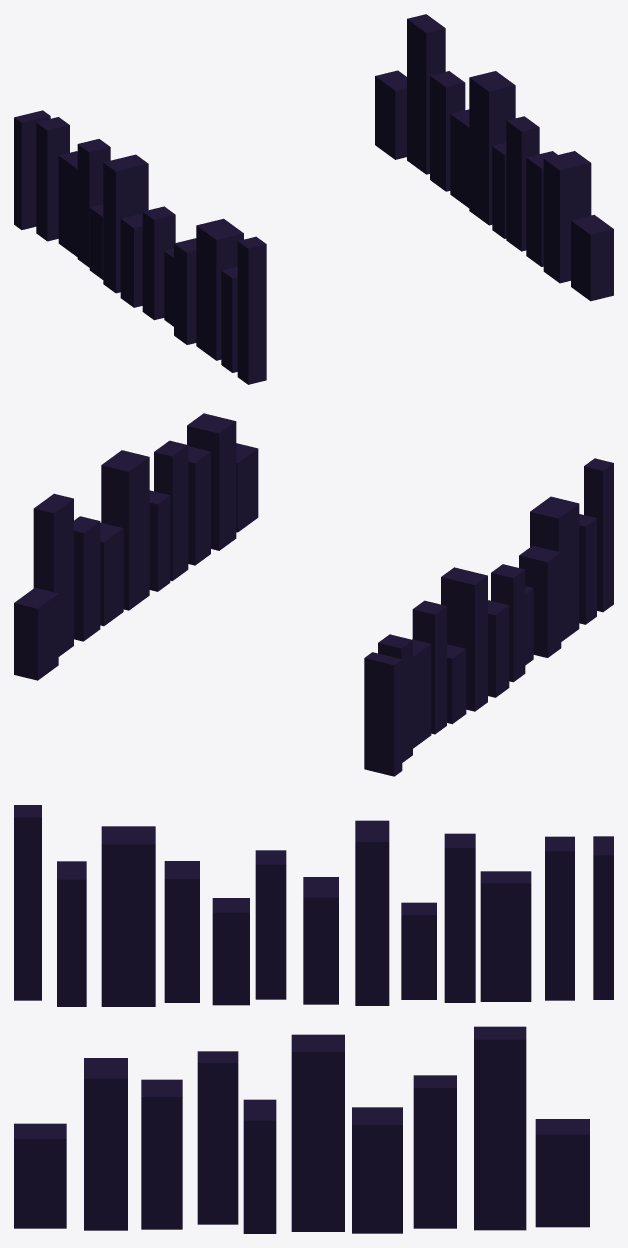
The model's file is Skyline_City.fbx.
3 renders of one model, top to bottom at view 1: azimuth 30°, elevation 25°; view 2: azimuth 150°, elevation 25°; view 3: azimuth 270°, elevation 25°, orthographic. The views are drawn at different scales.
Parts seen in each view (by area): view 1: Bldg-1_0_-30.001; view 2: Bldg-1_0_-30.001; view 3: Bldg-1_0_-30.001.
Part boxes in pixels (box(x1,y1,x2,y2)): Bldg-1_0_-30.001: box(14, 14, 613, 384); Bldg-1_0_-30.001: box(14, 413, 613, 776); Bldg-1_0_-30.001: box(14, 805, 613, 1233).
Bounding box in the file's own units: 25752 × 9054 × 25800.
